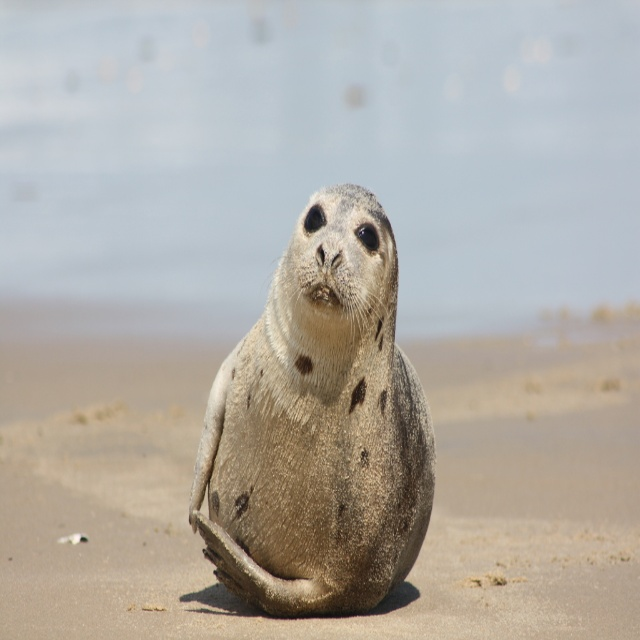Harbor seal: (187, 183, 435, 617)
